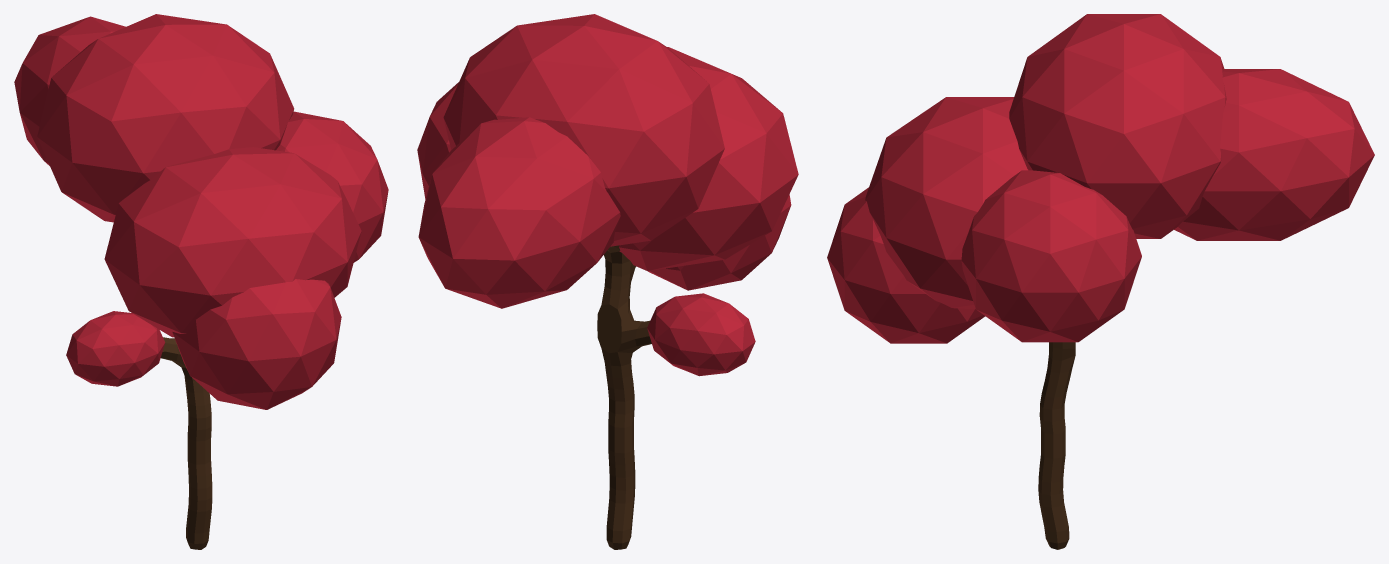
The model's file is tree.fbx.
3 views of the same model, side by side, from view 1: azimuth 30°, elevation 25°; view 2: azimuth 150°, elevation 25°; view 3: azimuth 270°, elevation 25° (orthographic). The views are drawn at different scales.
Parts seen in each view (by area): view 1: Icosphere.004, Icosphere.005, Icosphere.003, Icosphere.001, Icosphere.002, Icosphere, Cube; view 2: Icosphere.004, Icosphere, Icosphere.005, Cube, Icosphere.002, Icosphere.003, Icosphere.001; view 3: Icosphere.004, Icosphere.001, Icosphere, Icosphere.005, Icosphere.003, Cube.
Boxes of the visible parts, x1,y1,x2,y2 form: Icosphere.004: (37,14,294,222); Icosphere.005: (104,147,361,337); Icosphere.003: (172,279,341,409); Icosphere.001: (276,111,388,262); Icosphere.002: (66,311,165,386); Icosphere: (14,16,125,165); Cube: (160,337,212,549); Icosphere.004: (443,14,724,246); Icosphere: (418,117,620,308); Icosphere.005: (619,47,798,271); Cube: (597,245,651,549); Icosphere.002: (647,293,755,376); Icosphere.003: (648,194,791,290); Icosphere.001: (417,82,458,199); Icosphere.004: (1009,14,1226,238); Icosphere.001: (961,170,1141,342); Icosphere: (1174,69,1374,240); Icosphere.005: (865,97,1027,308); Icosphere.003: (827,187,985,343); Cube: (1038,342,1075,549).
Size of the model in its own units: 270 by 437 by 413.
